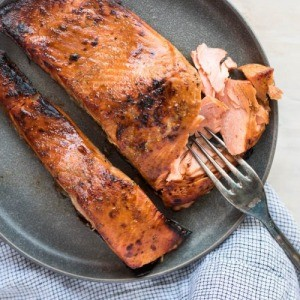salmon_brain food: (80, 43, 183, 180)
